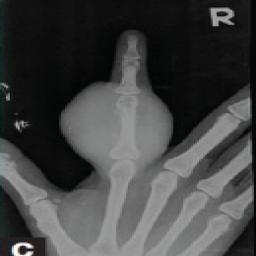cancer: (60, 82, 168, 173)
